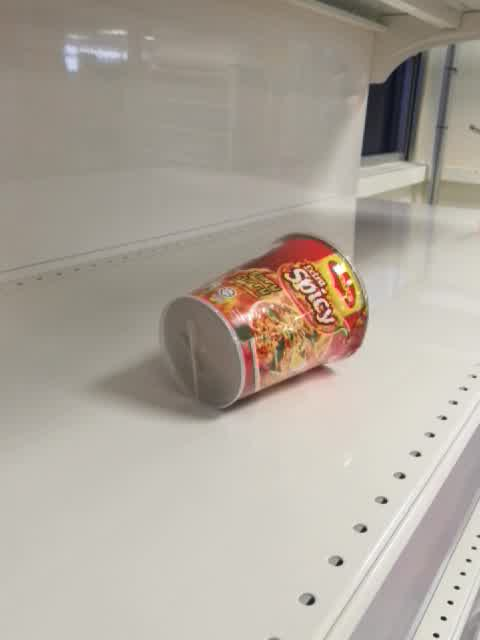maggi: (155, 230, 368, 413)
